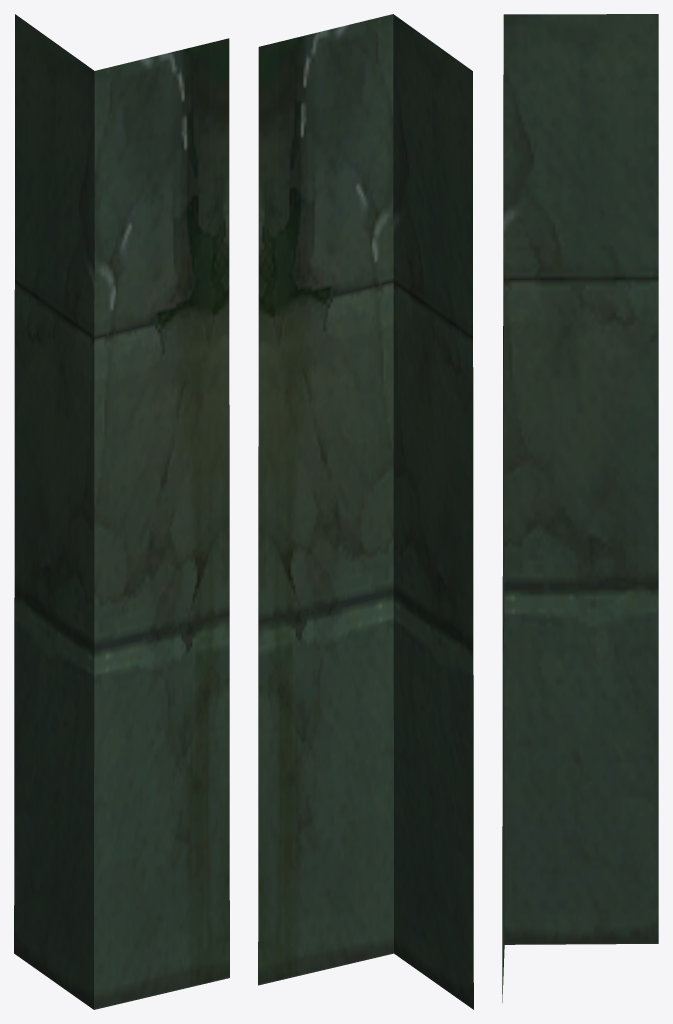
Rendered from stemple_half_convex_05.fbx.
The picture shows the model from 3 angles, left to right: view 1: azimuth 30°, elevation 25°; view 2: azimuth 210°, elevation 25°; view 3: azimuth 270°, elevation 25°; orthographic projection.
Parts seen in each view (by area): view 1: obj0.402; view 2: obj0.402; view 3: obj0.402.
Boxes of the visible parts, x1,y1,x2,y2 form: obj0.402: (14, 14, 229, 1009); obj0.402: (258, 14, 473, 1009); obj0.402: (502, 14, 658, 1002).
Bounding box in the file's own units: 0.4191 × 2.75 × 0.4192.
